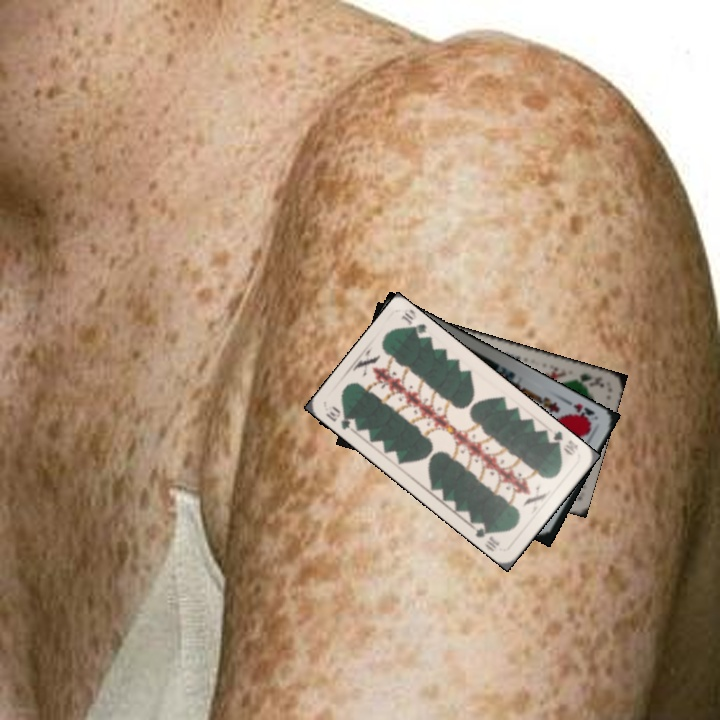G10: (321, 402, 359, 433), (546, 427, 581, 458)
GK: (567, 369, 607, 390)
HK: (562, 398, 597, 426)
